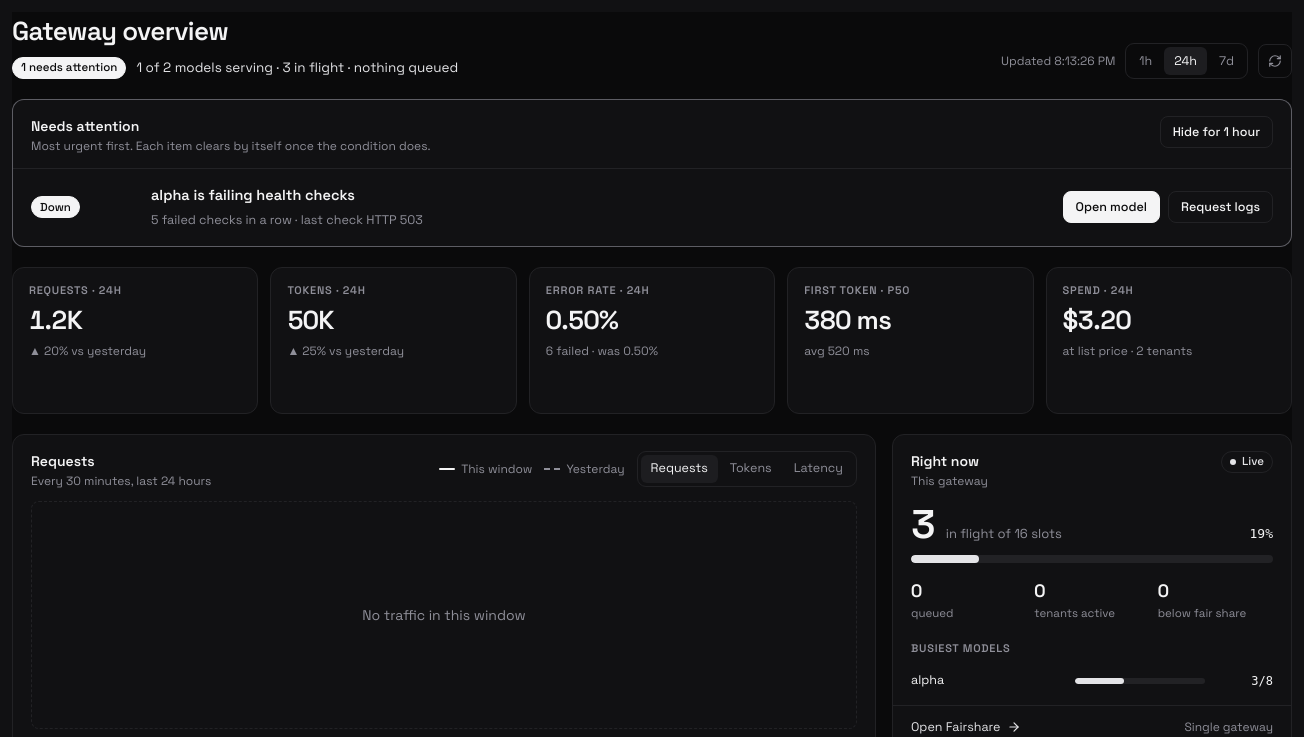
Test: OverviewDashboard › puts a failing model at the top, and Hide for 1 hour tucks it away in this browser
The image size is (1304, 737).
Click the button "Hide for 1 hour": x=1216, y=132 [1160,116,1273,148]
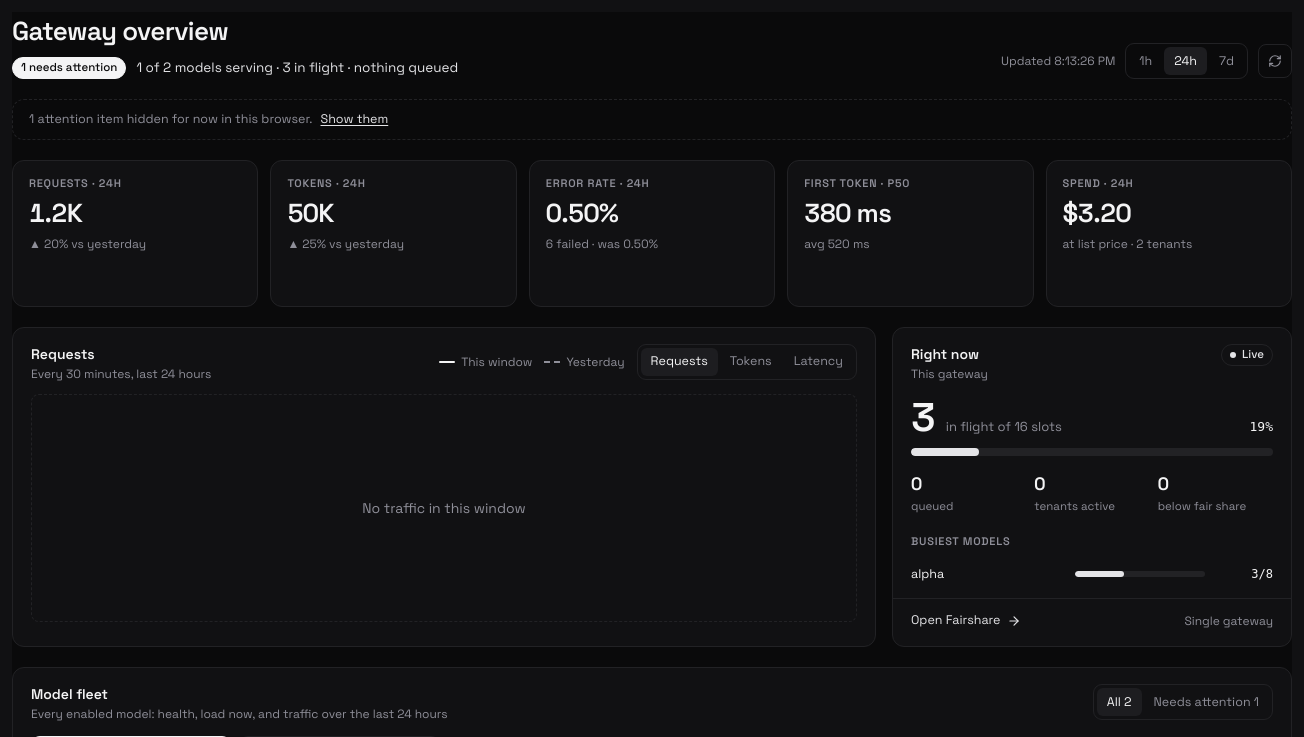
expect the text "alpha is failing health checks" is gone: met
expect the text "1 attention item hidden" is shown: met, box [12,99,1292,140]
